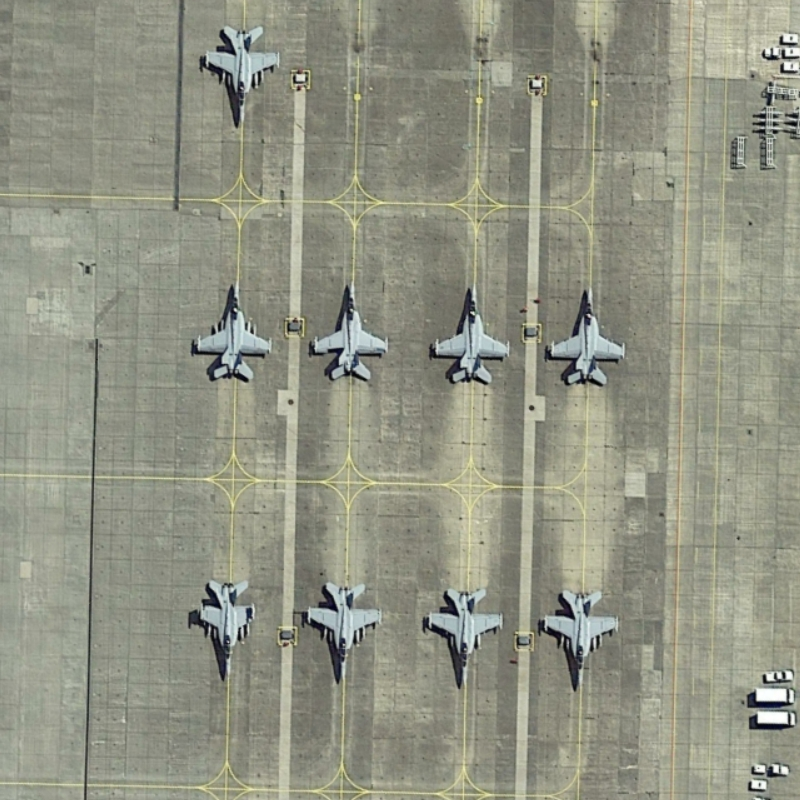A16: (197, 18, 292, 133), (299, 572, 388, 690), (536, 583, 626, 698), (418, 579, 510, 690), (542, 282, 632, 391), (187, 278, 277, 386), (424, 282, 516, 387), (308, 272, 393, 385), (189, 571, 265, 687)
